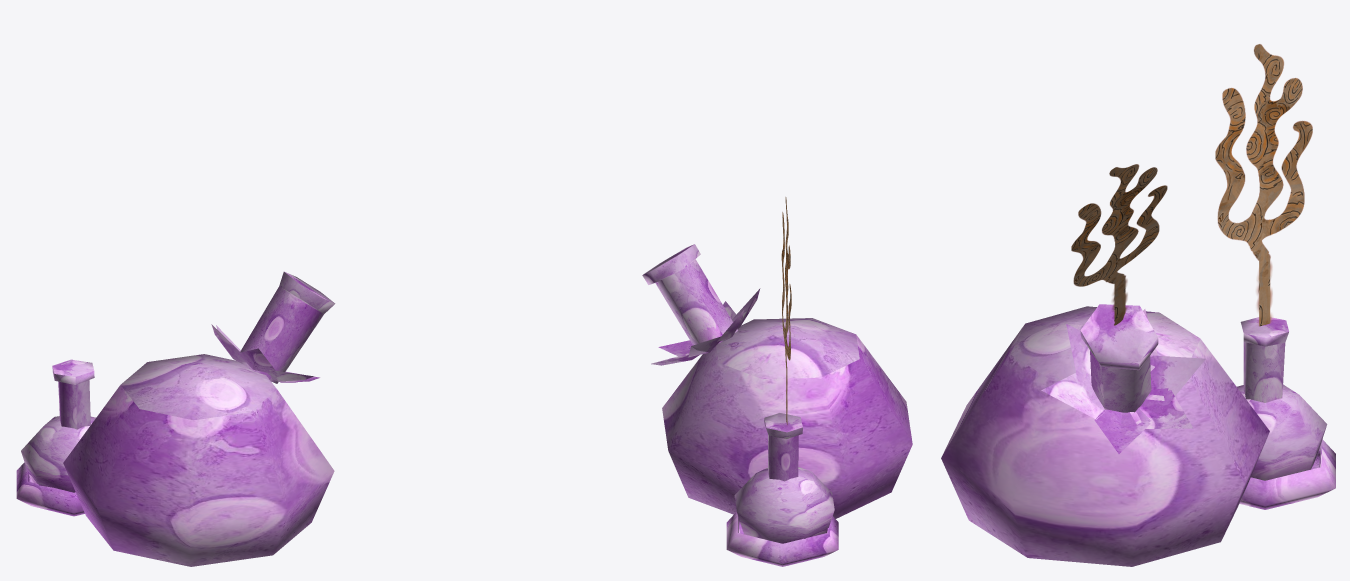
The model's file is entity89444n.gltf.
The picture shows the model from 3 angles, left to right: view 1: azimuth 30°, elevation 25°; view 2: azimuth 150°, elevation 25°; view 3: azimuth 270°, elevation 25°; orthographic projection. The views are drawn at different scales.
Visible parts, largest first — view 1: node_Flower_02_a; view 2: node_Flower_02_a; view 3: node_Flower_02_a.
Boxes of the visible parts, x1,y1,x2,y2 form: node_Flower_02_a: (16,271,335,566); node_Flower_02_a: (642,197,912,566); node_Flower_02_a: (941,44,1335,566).
Size of what is drawn, in the model's own units: 0.7931 by 0.8552 by 0.5494.
